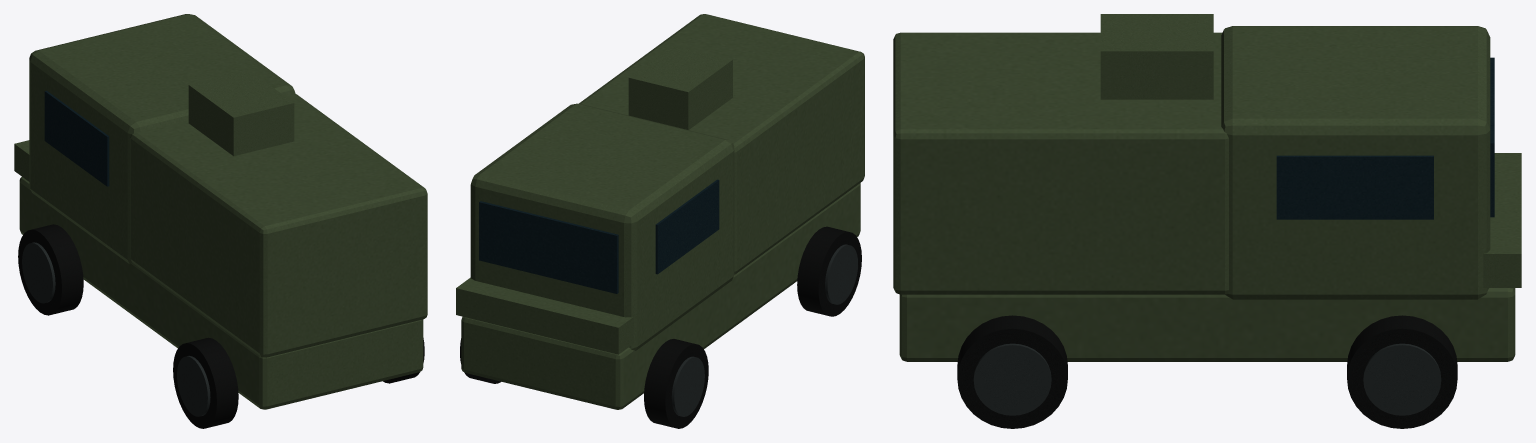
3 views of the same model, side by side, from view 1: azimuth 30°, elevation 25°; view 2: azimuth 150°, elevation 25°; view 3: azimuth 270°, elevation 25° (orthographic). The views are drawn at different scales.
Parts seen in each view (by area): view 1: Hull_MVP olive paint, RunningGear_MVP rubber, Hull_MVP optical glass, RunningGear_MVP exposed metal; view 2: Hull_MVP olive paint, Hull_MVP optical glass, RunningGear_MVP rubber, RunningGear_MVP exposed metal; view 3: Hull_MVP olive paint, RunningGear_MVP rubber, Hull_MVP optical glass, RunningGear_MVP exposed metal.
Part boxes in pixels (box(x1,y1,x2,y2)): Hull_MVP olive paint: box(14, 14, 427, 409); RunningGear_MVP rubber: box(18, 224, 424, 428); Hull_MVP optical glass: box(44, 90, 109, 186); RunningGear_MVP exposed metal: box(22, 242, 210, 416); Hull_MVP olive paint: box(456, 14, 864, 409); Hull_MVP optical glass: box(479, 179, 719, 293); RunningGear_MVP rubber: box(460, 226, 861, 428); RunningGear_MVP exposed metal: box(671, 244, 857, 416); Hull_MVP olive paint: box(893, 14, 1521, 361); RunningGear_MVP rubber: box(957, 315, 1457, 428); Hull_MVP optical glass: box(1276, 57, 1494, 219); RunningGear_MVP exposed metal: box(973, 343, 1441, 415).
Size of the model in its own units: 2.46 by 2.92 by 5.
4 materials, 4 textured.
